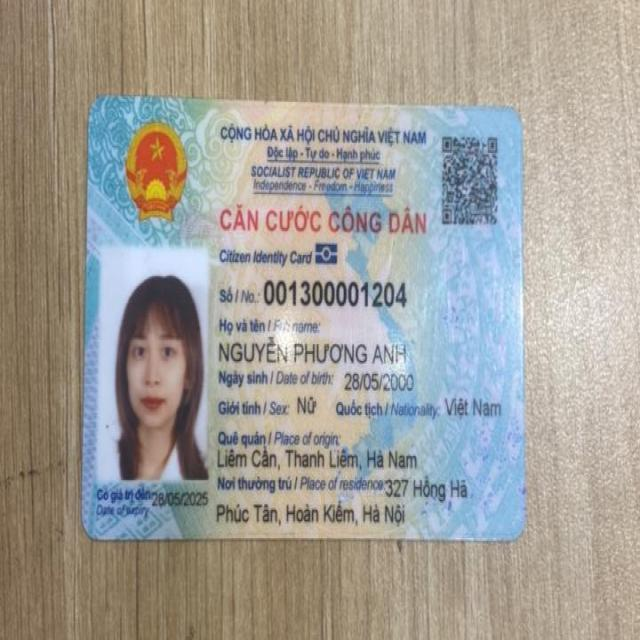bottom_left: (70, 505, 123, 551)
bottom_right: (484, 504, 536, 556)
image_person: (98, 244, 214, 484)
top_left: (74, 82, 126, 130)
top_right: (482, 86, 536, 140)
